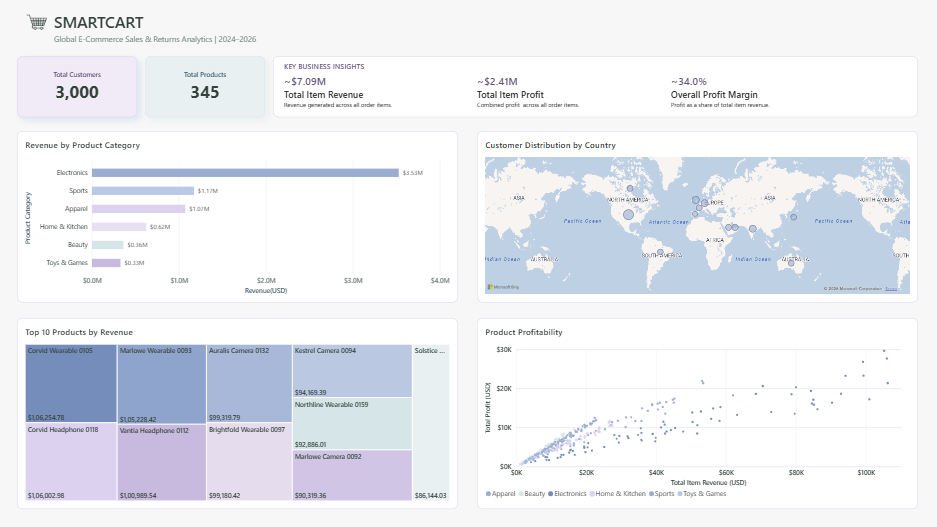

The dashboard page shown, as its layout file describes it:
{"tool":"powerbi","page":{"name":"Customer & Product Insights","canvas":[1920,1080],"ordinal":1},"visuals":[{"type":"textbox","box":[117,25,215,50],"z":0},{"type":"textbox","box":[117,72,432,32],"z":1000},{"type":"cardVisual","fields":{"Data":["SmartCart Measures.Total Customers"]},"box":[41.4,117.1,245,125],"z":2000},{"type":"cardVisual","fields":{"Data":["Count(products_clean.product_id)"]},"box":[302,117.1,245,125],"z":3000},{"type":"clusteredBarChart","title":"Revenue by Product Category","fields":{"Category":["products_clean.category"],"Y":["SmartCart Measures.Total Item Revenue"]},"box":[41,270,900,350],"z":4000},{"type":"treemap","title":"Top 10 Products by Revenue","fields":{"Group":["products_clean.product_name"],"Values":["SmartCart Measures.Total Item Revenue"]},"box":[41,650,900,390],"z":5000},{"type":"map","title":"Customer Distribution by Country","fields":{"Category":["customers_clean.country"],"Size":["CountNonNull(customers_clean.customer_id)"]},"box":[979,270,900,350],"z":6000},{"type":"scatterChart","title":"Product Profitability","fields":{"Category":["products_clean.product_name"],"Series":["products_clean.category"],"Size":["SmartCart Measures.Units Sold"],"X":["SmartCart Measures.Total Item Revenue"],"Y":["SmartCart Measures.Total Profit"]},"box":[979,650,900,390],"z":7000},{"type":"image","box":[45,22,72,50],"z":8000},{"type":"shape","box":[562.7,116.4,1316,125],"z":9000},{"type":"textbox","box":[585,127,300,30.3],"z":10000},{"type":"textbox","box":[585.5,152.6,350,88.2],"z":11000},{"type":"textbox","box":[980.3,152.6,350,88.2],"z":12000},{"type":"textbox","box":[1375,152.6,350,88.2],"z":13000}]}

Visuals, with their boxes in screenshot pixels (x1, y1, x2, y2), scaled from the page's 1920x1080 canvas onto the 937x527 screenshot:
textbox: box=[57, 12, 162, 37]
textbox: box=[57, 35, 268, 51]
cardVisual - SmartCart Measures.Total Customers: box=[20, 57, 140, 118]
cardVisual - Count(products_clean.product_id): box=[147, 57, 267, 118]
"Revenue by Product Category" clusteredBarChart: box=[20, 132, 459, 303]
"Top 10 Products by Revenue" treemap: box=[20, 317, 459, 507]
"Customer Distribution by Country" map: box=[478, 132, 917, 303]
"Product Profitability" scatterChart: box=[478, 317, 917, 507]
image: box=[22, 11, 57, 35]
shape: box=[275, 57, 917, 118]
textbox: box=[285, 62, 432, 77]
textbox: box=[286, 74, 457, 118]
textbox: box=[478, 74, 649, 118]
textbox: box=[671, 74, 842, 118]
